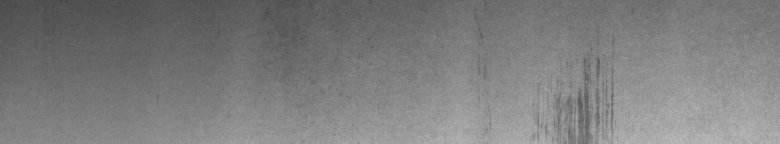ka: (534, 58, 617, 136)
